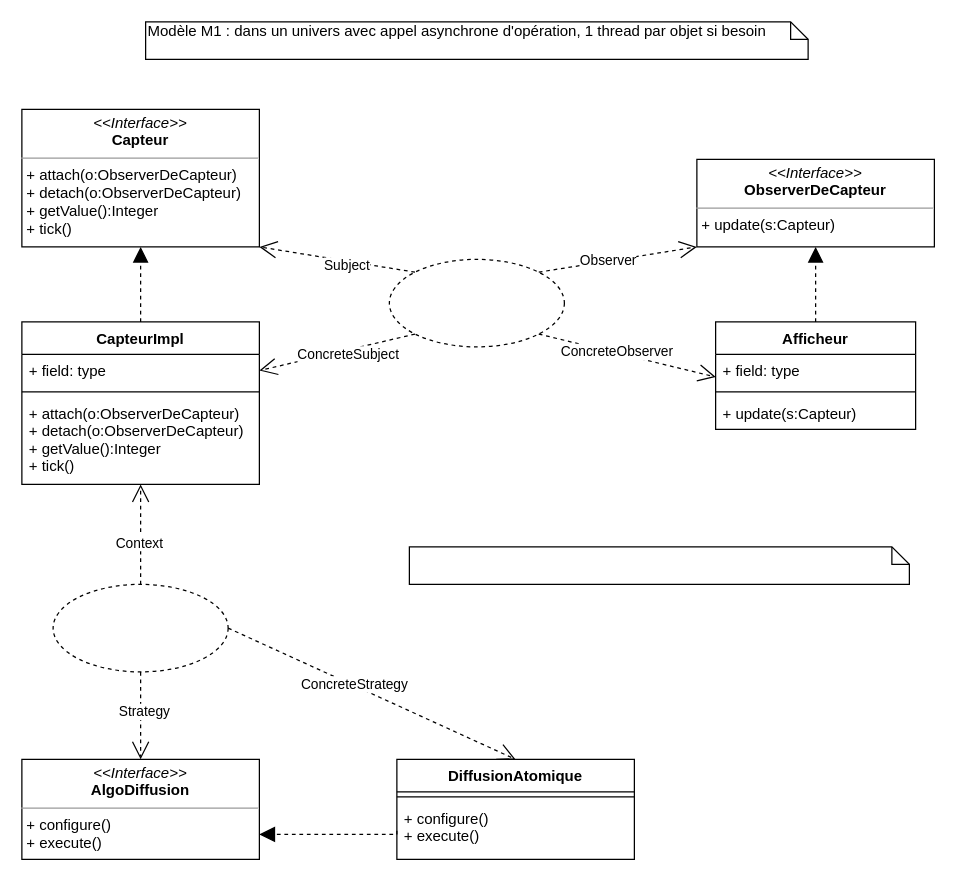
Image size: 956x885. Some labels were removed from this diagram. The centre of each missing label's shape, as x and y in pixels:
":Observer" goes at pixel 476 302.
":Strategy" goes at pixel 140 627.
"Question : faire le diagramme de séquence de l'appel de Capteur::tick" goes at pixel 658 565.
